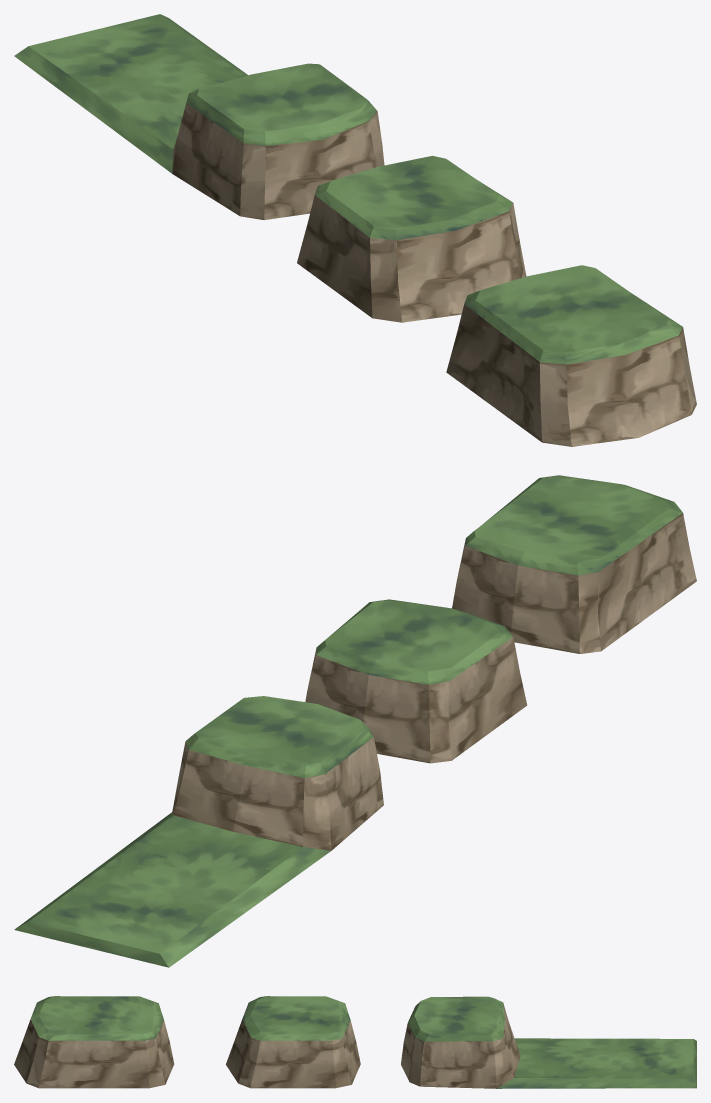
Rendered from level1-1.fbx.
3 views of the same model, one above another, from view 1: azimuth 30°, elevation 25°; view 2: azimuth 150°, elevation 25°; view 3: azimuth 270°, elevation 25° (orthographic). The views are drawn at different scales.
Parts seen in each view (by area): view 1: 跳台; view 2: 跳台; view 3: 跳台.
Boxes of the visible parts, box(x1,y1,x2,y2) form: 跳台: box(14, 14, 696, 446); 跳台: box(14, 475, 696, 967); 跳台: box(14, 996, 696, 1088).
Bounding box in the file's own units: 821 × 390 × 4887.
Materials: 1 (1 with a texture image).
